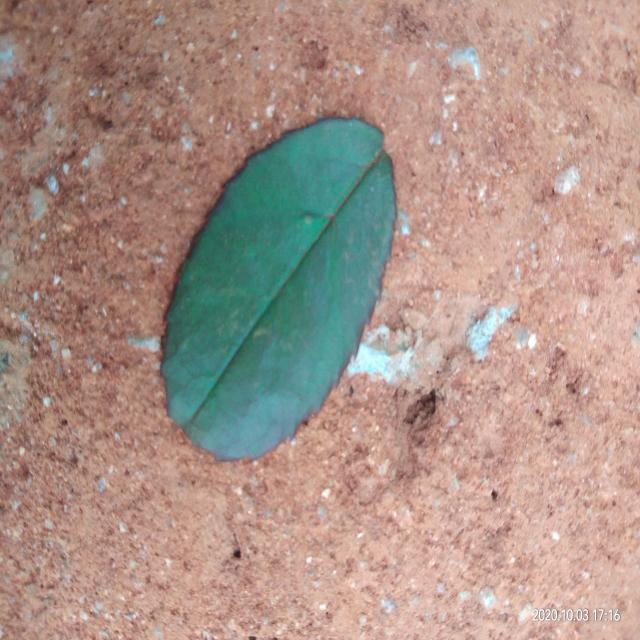rose: (161, 118, 396, 460)
